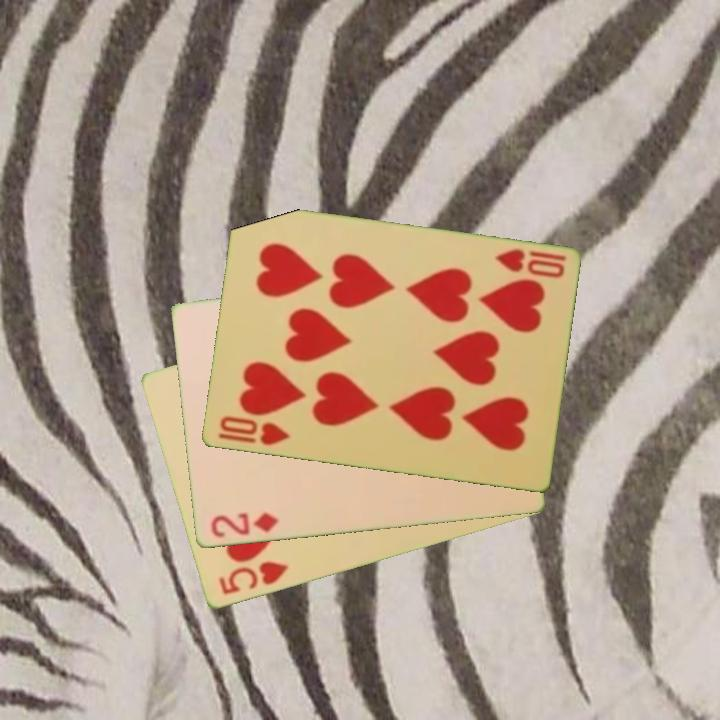10h: (214, 412, 292, 449), (490, 245, 568, 282)
2d: (207, 508, 281, 541)
5h: (214, 558, 292, 598)
